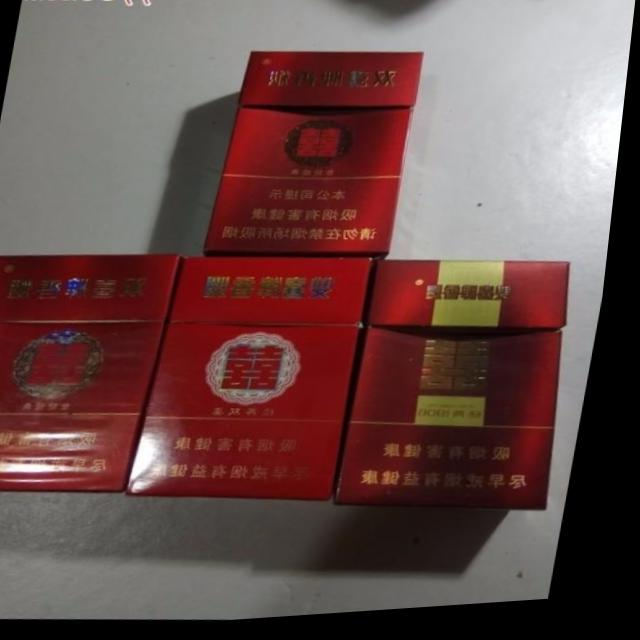box: (136, 259, 382, 506), (345, 264, 577, 519), (210, 54, 426, 262), (0, 254, 185, 495)
